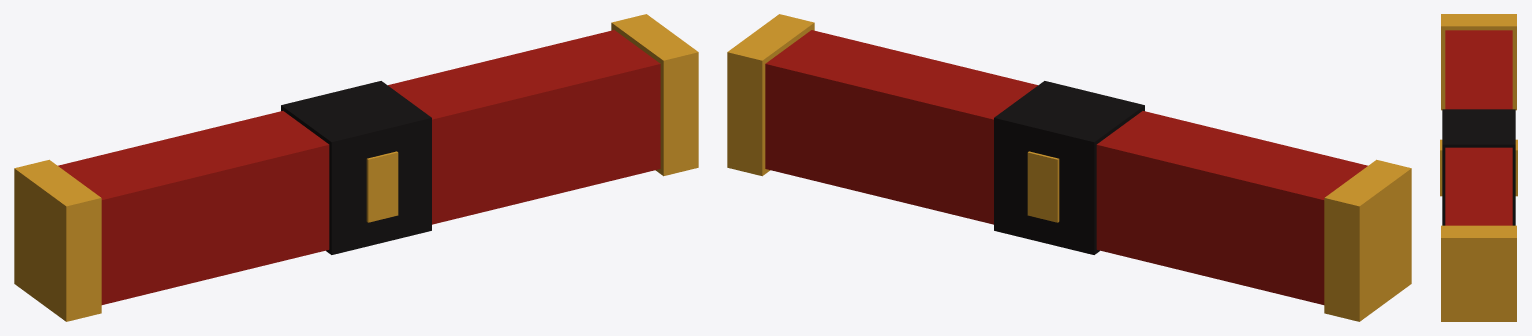
Rendered from SM_Bld_Lacquer_Beam_Half_01.fbx.
The picture shows the model from 3 angles, left to right: view 1: azimuth 30°, elevation 25°; view 2: azimuth 150°, elevation 25°; view 3: azimuth 270°, elevation 25°; orthographic projection. The views are drawn at different scales.
Visible parts, largest first — view 1: SM_Bld_Lacquer_Beam_Half_01; view 2: SM_Bld_Lacquer_Beam_Half_01; view 3: SM_Bld_Lacquer_Beam_Half_01.
Part boxes in pixels (<box>): SM_Bld_Lacquer_Beam_Half_01: <box>14,14,698,321</box>; SM_Bld_Lacquer_Beam_Half_01: <box>727,14,1411,321</box>; SM_Bld_Lacquer_Beam_Half_01: <box>1440,14,1517,321</box>.
Bounding box in the file's own units: 2.52 × 0.44 × 0.37.
1 material, 1 textured.
